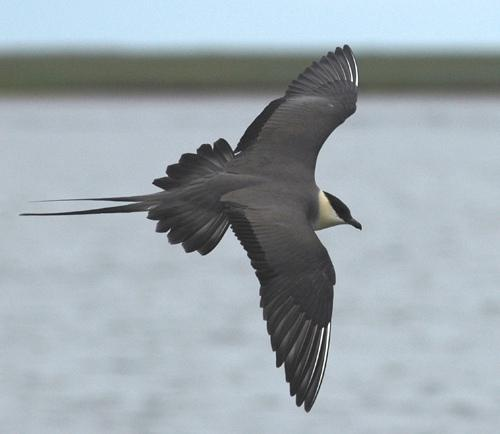bird: (17, 45, 372, 414)
